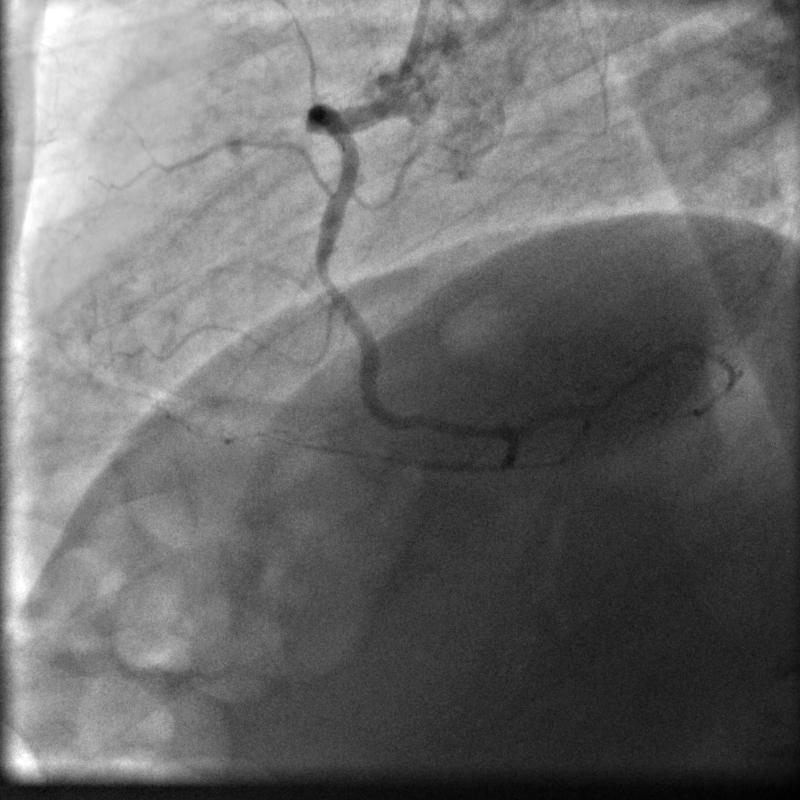Stenosis: (311, 258, 338, 291)
